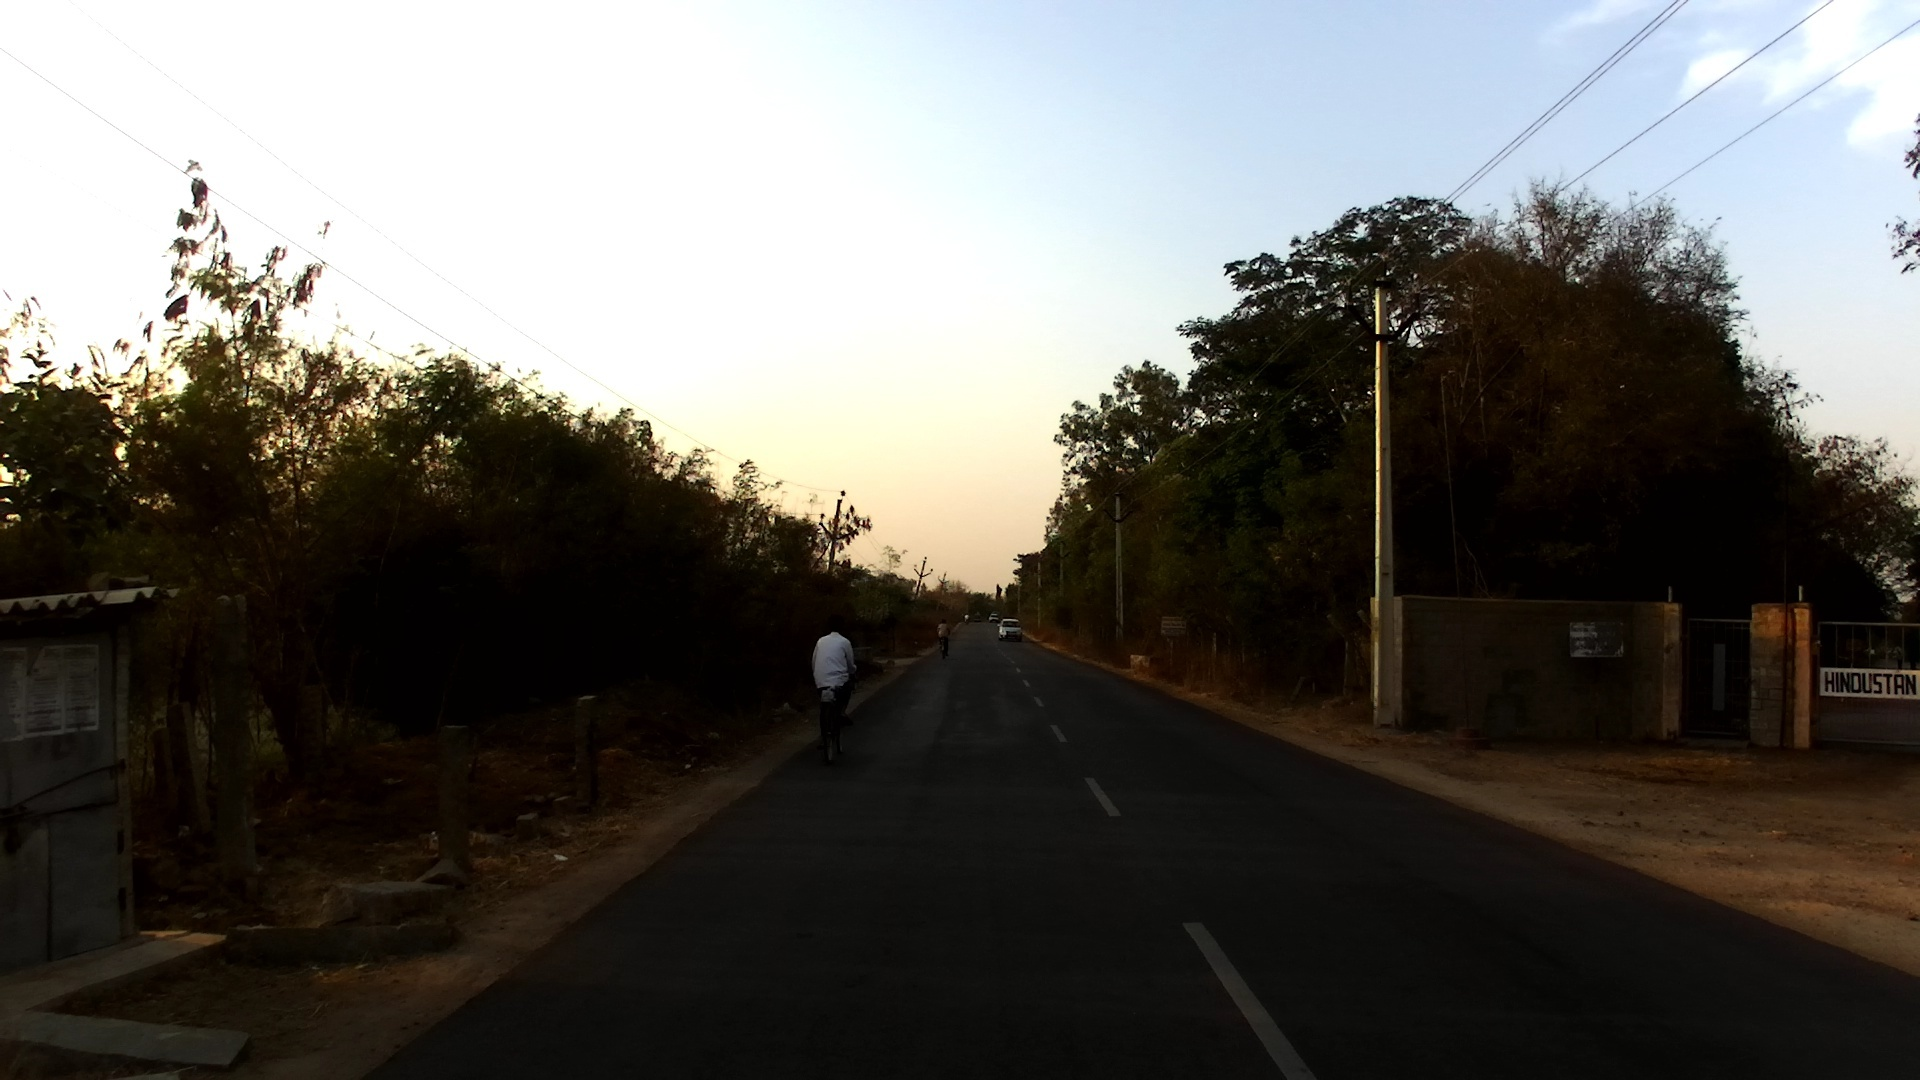bicycle: (818, 671, 863, 768), (937, 632, 950, 660)
car: (995, 617, 1024, 640), (987, 611, 999, 624), (972, 611, 983, 621)
motorcycle: (962, 616, 972, 626)
rider: (810, 618, 855, 749), (936, 620, 950, 654), (964, 610, 975, 621)
